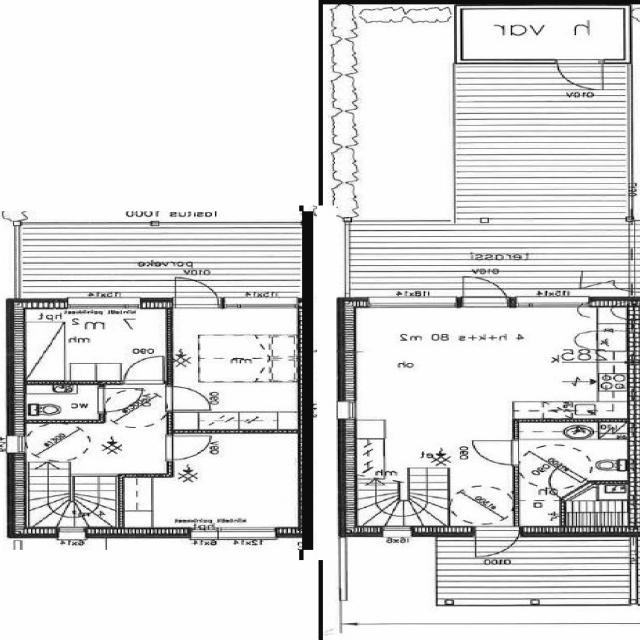door: (536, 465, 595, 500), (464, 270, 508, 307), (176, 272, 218, 309), (557, 58, 603, 90), (167, 435, 214, 460), (477, 526, 513, 558), (472, 441, 520, 465), (124, 356, 164, 384), (99, 388, 144, 412), (167, 387, 213, 410)
